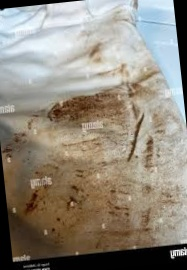earth: (50, 93, 131, 122), (122, 113, 147, 165), (106, 192, 134, 237), (4, 130, 26, 156), (66, 185, 85, 210), (23, 193, 41, 213), (85, 43, 102, 64)
